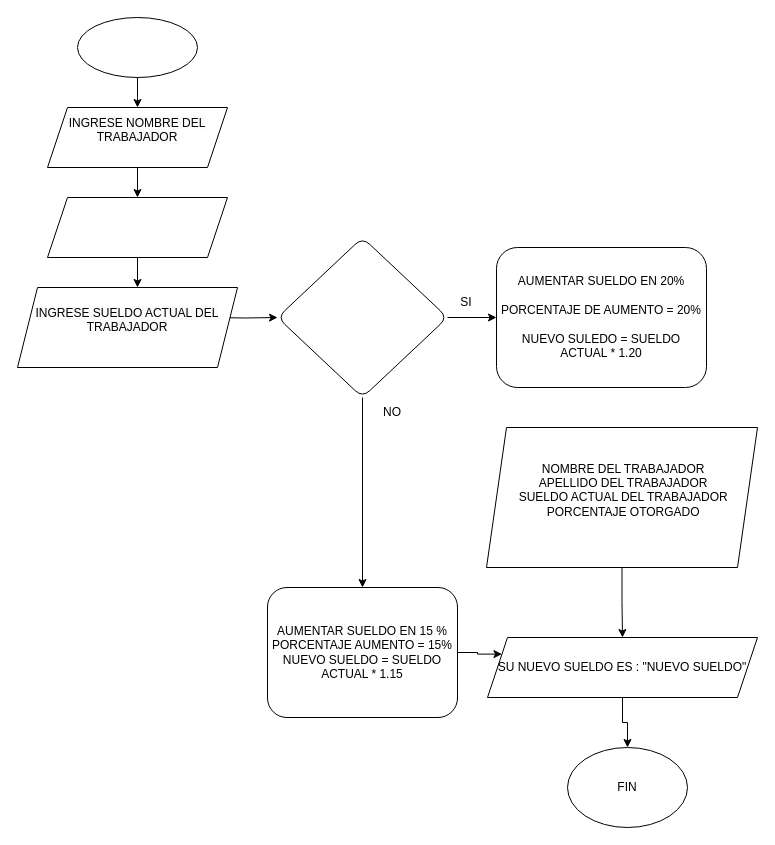
Some shapes in this 775 by 845 pixel diagram are drawn without their labels. Here are the shapes that lost their labels. From the top down, the box of each, then its label:
(76, 16, 198, 78): INICIO
(46, 196, 228, 258): INGRESE APELLIDO DEL TRABAJADOR
(276, 236, 448, 398): SUELDO ACTUAL < $33000
